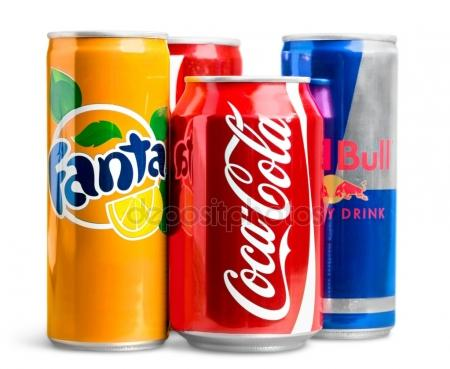fanta: (46, 35, 165, 349)
